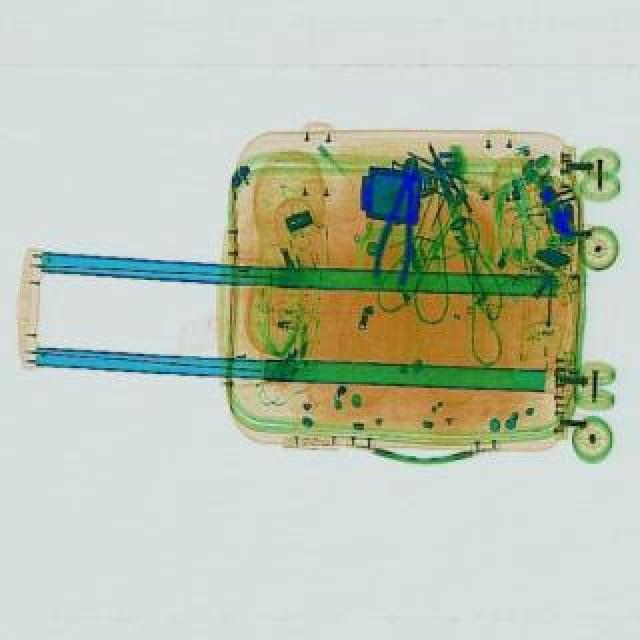wrench: (368, 152, 432, 284)
